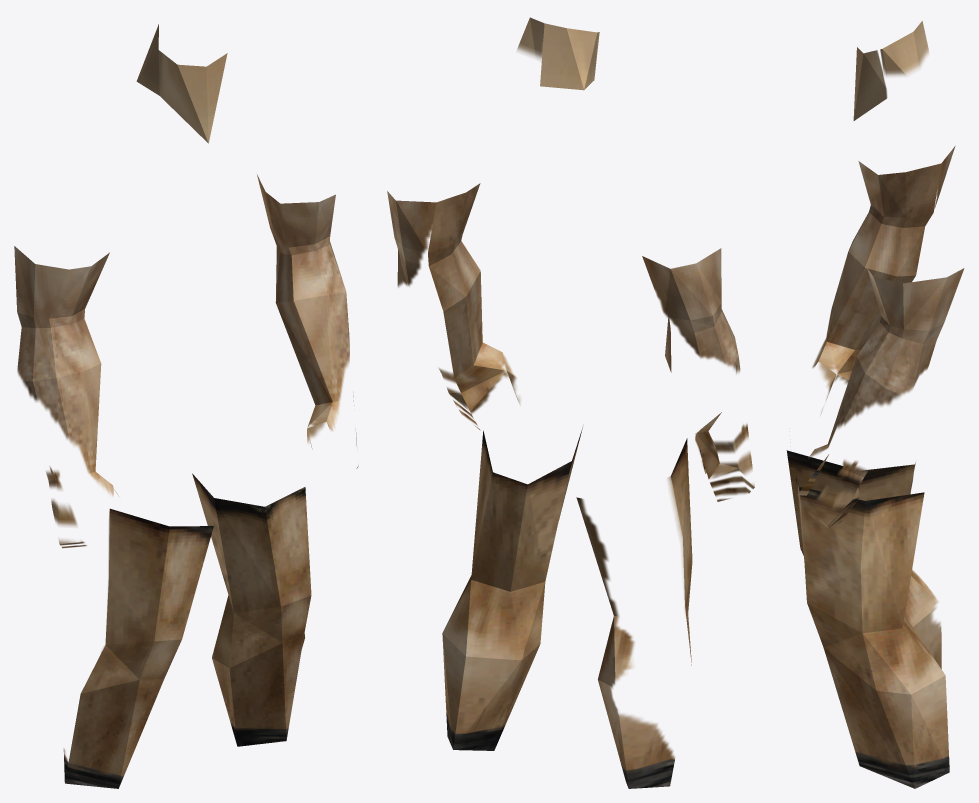
Rendered from Armor_MIL_L.glb.
The picture shows the model from 3 angles, left to right: view 1: azimuth 30°, elevation 25°; view 2: azimuth 150°, elevation 25°; view 3: azimuth 270°, elevation 25°; orthographic projection. The views are drawn at different scales.
Parts seen in each view (by area): view 1: Armor_MIL_Lzm_Body; view 2: Armor_MIL_Lzm_Body; view 3: Armor_MIL_Lzm_Body.
Boxes of the visible parts, x1,y1,x2,y2 form: Armor_MIL_Lzm_Body: (14, 24, 358, 788); Armor_MIL_Lzm_Body: (387, 17, 754, 788); Armor_MIL_Lzm_Body: (786, 21, 964, 788).
Size of the model in its own units: 0.6255 by 1.37 by 0.3099.
Materials: 1 (1 with a texture image).
